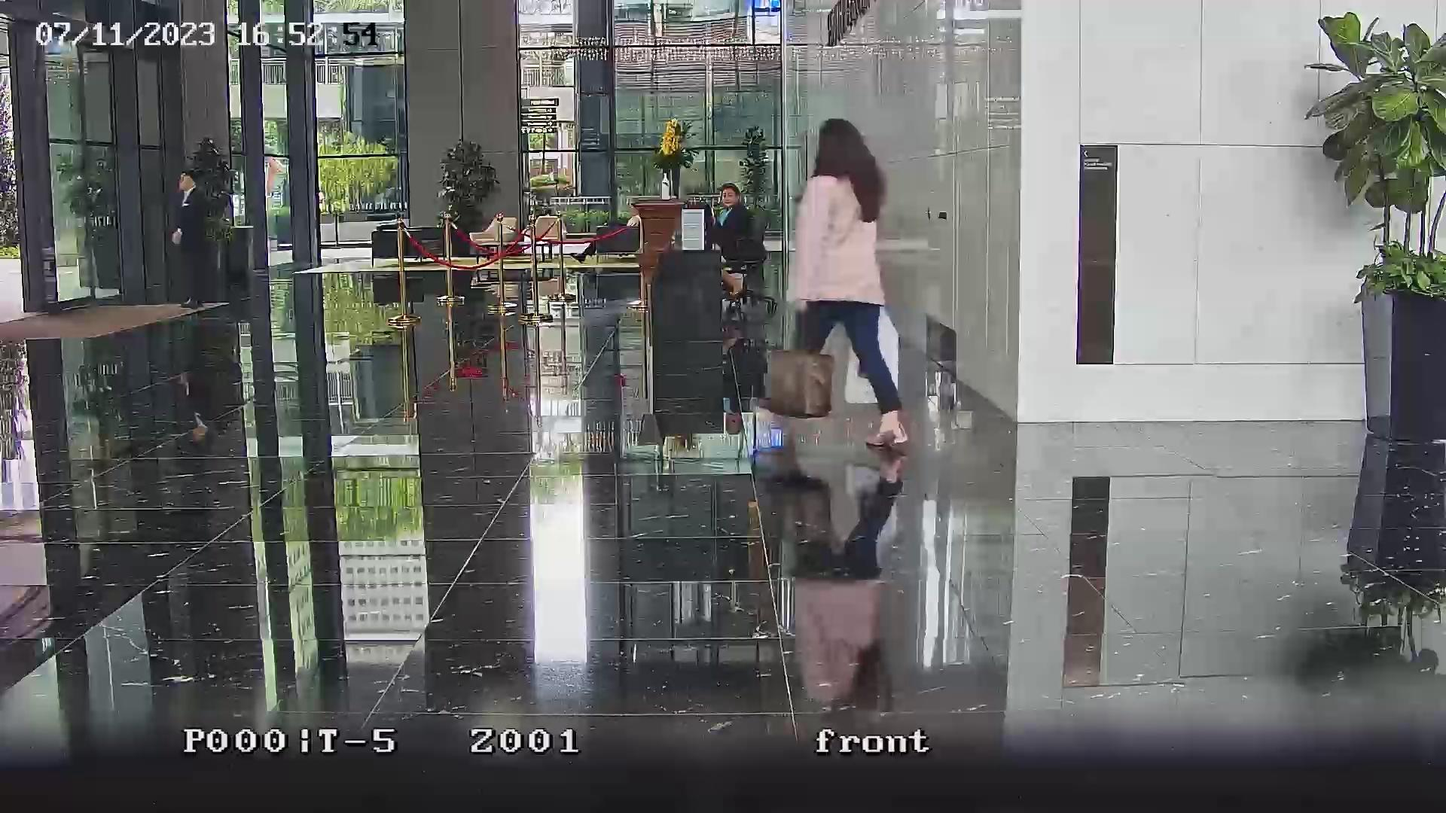person: (792, 117, 910, 451), (707, 182, 767, 301), (169, 170, 206, 309), (569, 203, 642, 264)
